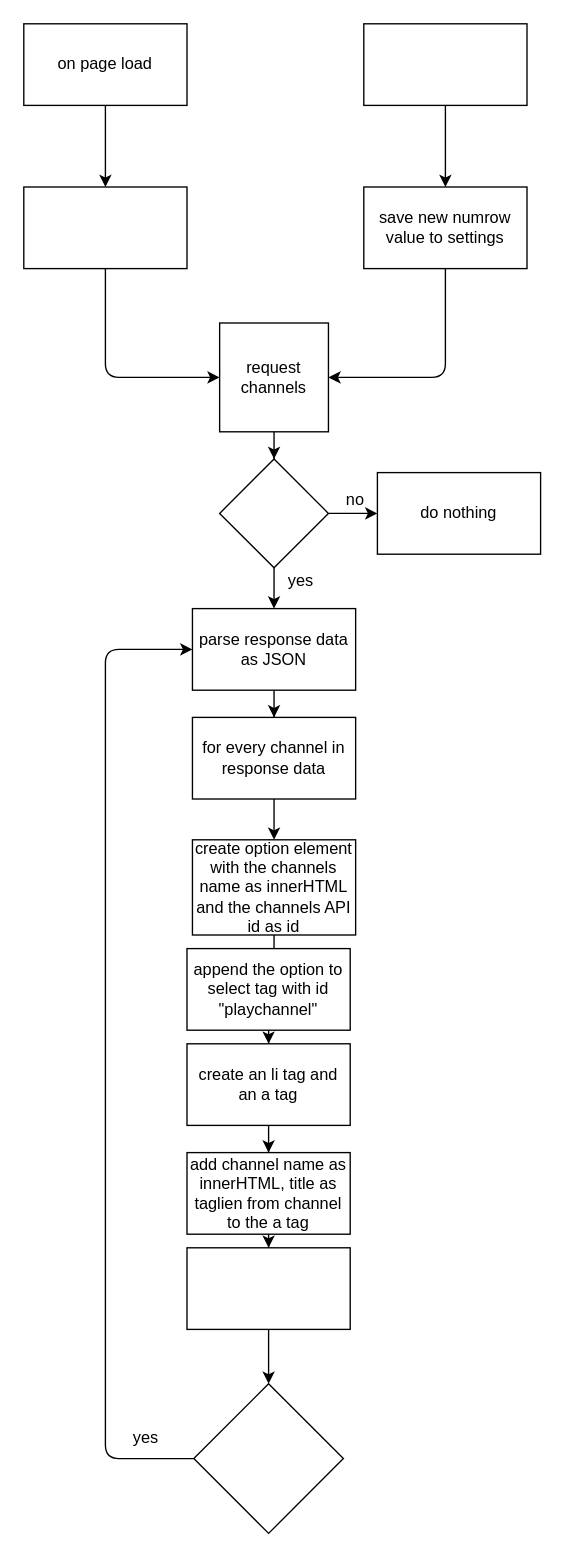
Image size: 564x1557. Some labels were removed from this diagram. Here are the shapes that lost their labels. From the top down, the centre of each, then its label:
(444,63): on numrows change
(104,227): set saved value of numRows to html element with id numrows
(273,513): status 200?
(268,1287): append the a tago to the li tag and the li tag to ul tag with id "mainnavlist"
(267,1457): more channels?
